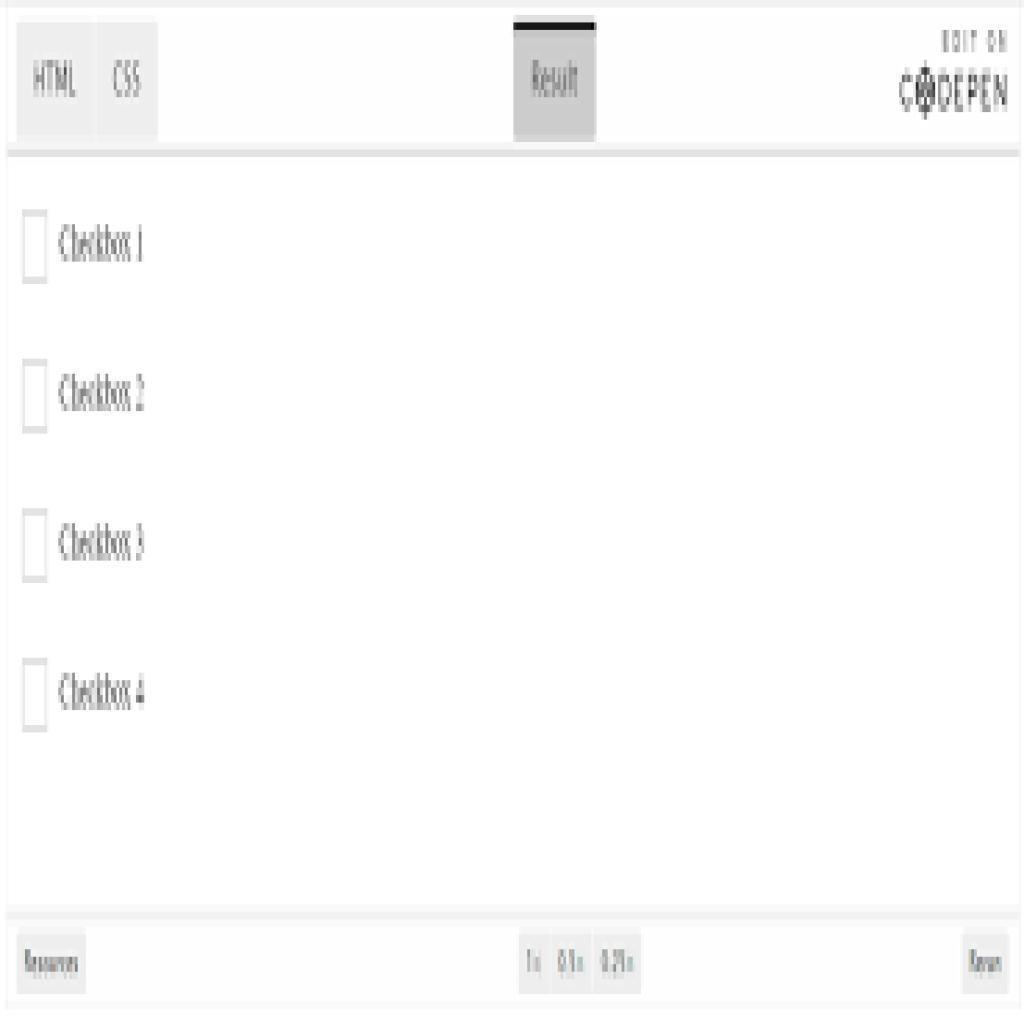checkbox: (21, 658, 55, 758), (19, 505, 51, 585), (21, 212, 49, 283), (23, 360, 46, 435)
